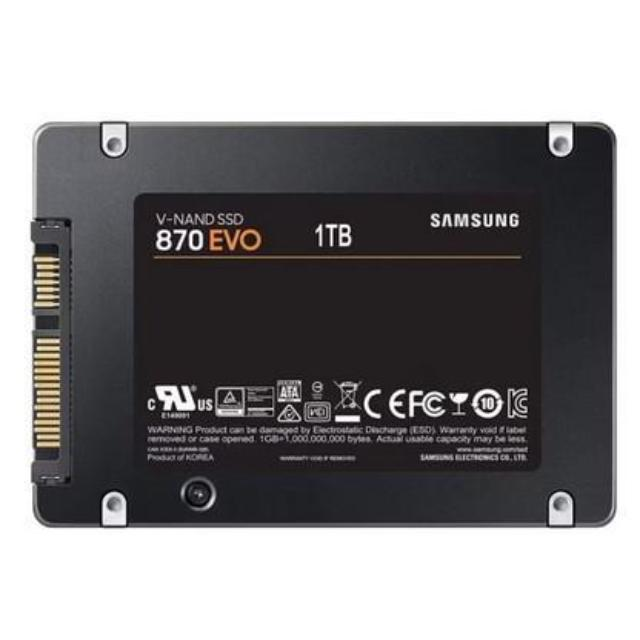DISK: (26, 112, 620, 532)
